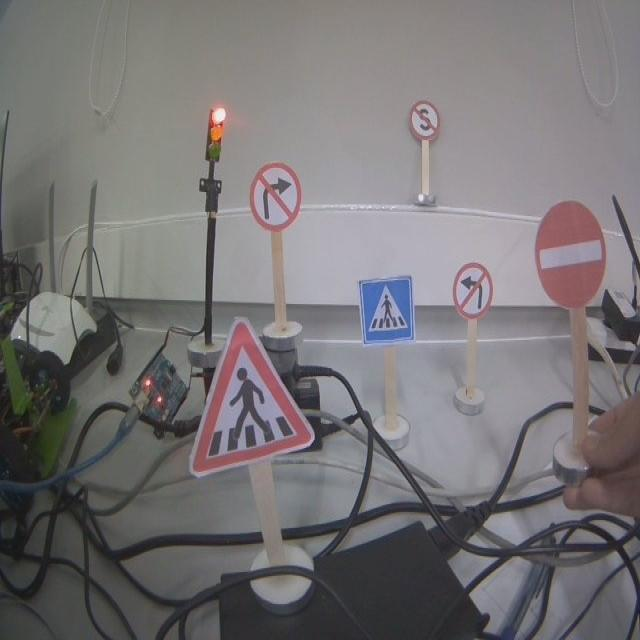Dilarang Belok Kanan: (250, 163, 301, 229)
Dilarang Belok Kiri: (453, 262, 492, 318)
Dilarang Masuk: (534, 201, 607, 307)
Lampu Merah: (206, 106, 225, 162)
Rambu Berhenti: (409, 101, 439, 140)
Rambu Penyebrangan: (187, 316, 314, 476), (356, 275, 415, 345)
